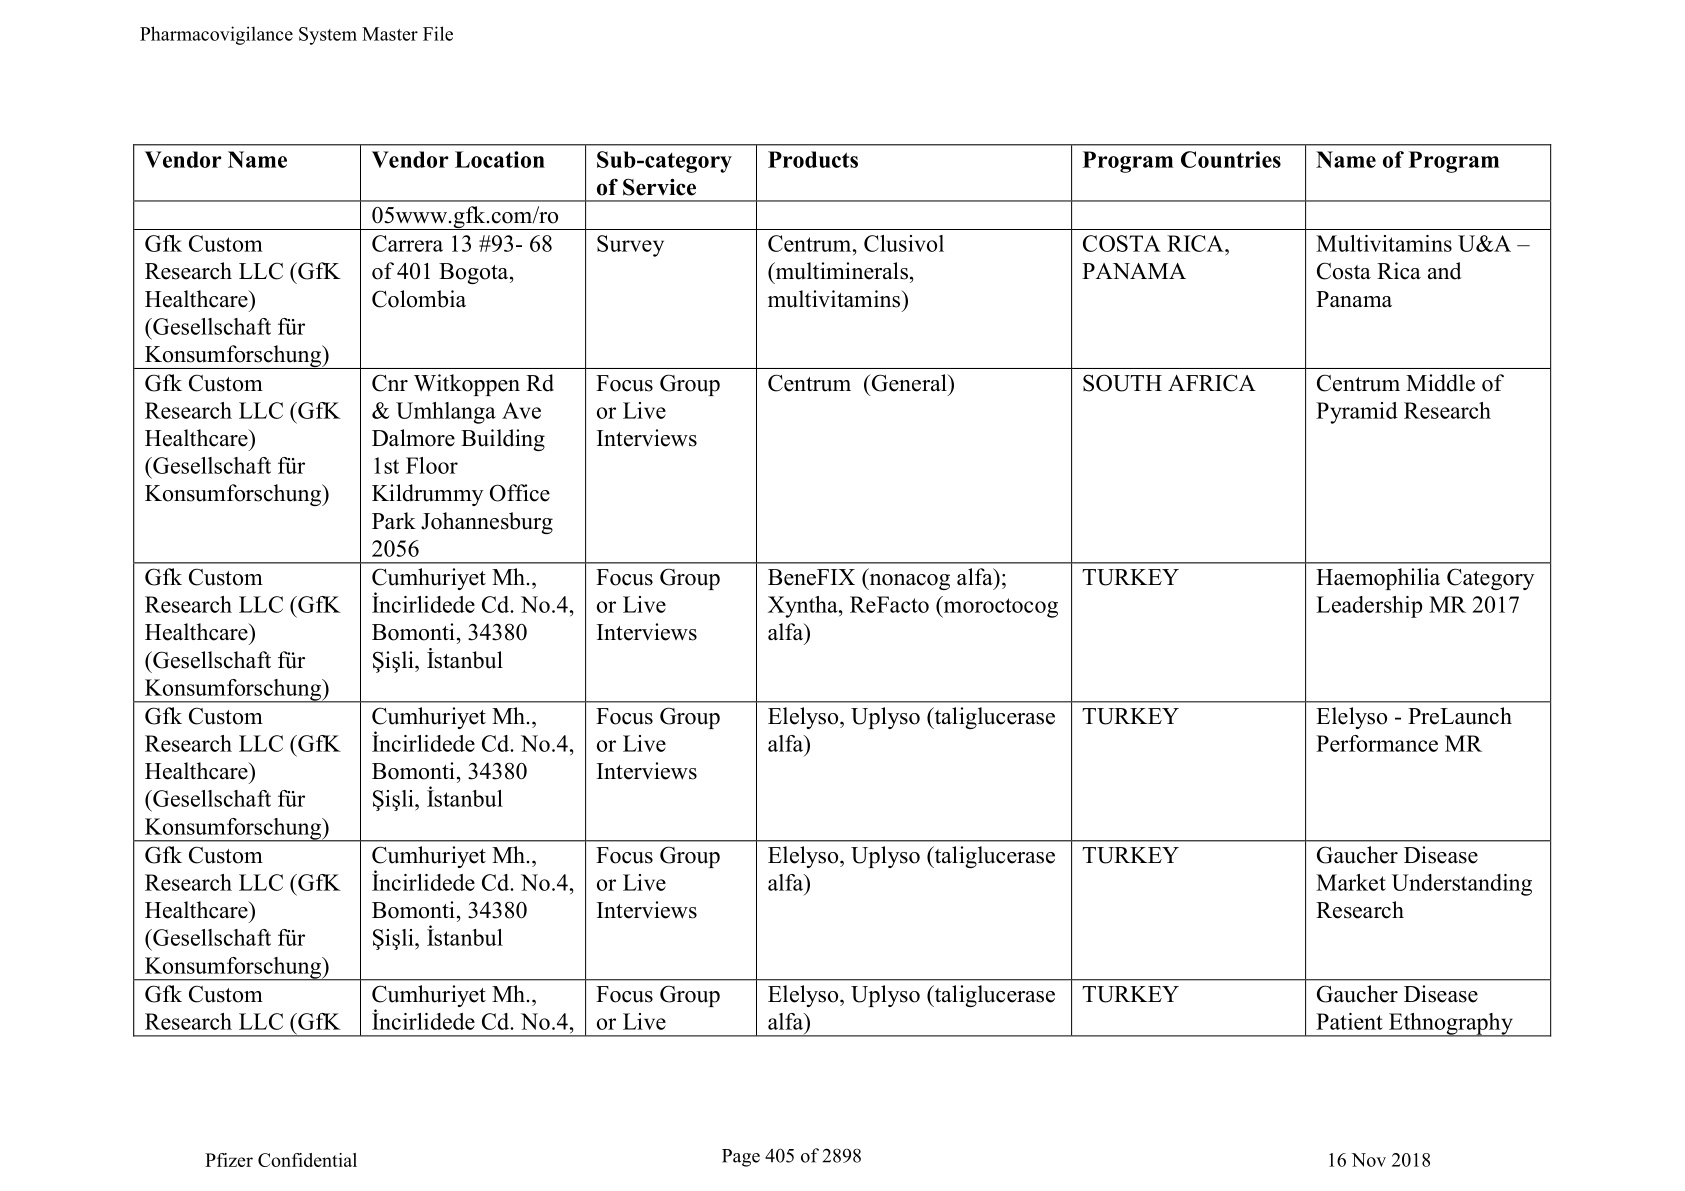full_lined: (122, 130, 1570, 1056)
